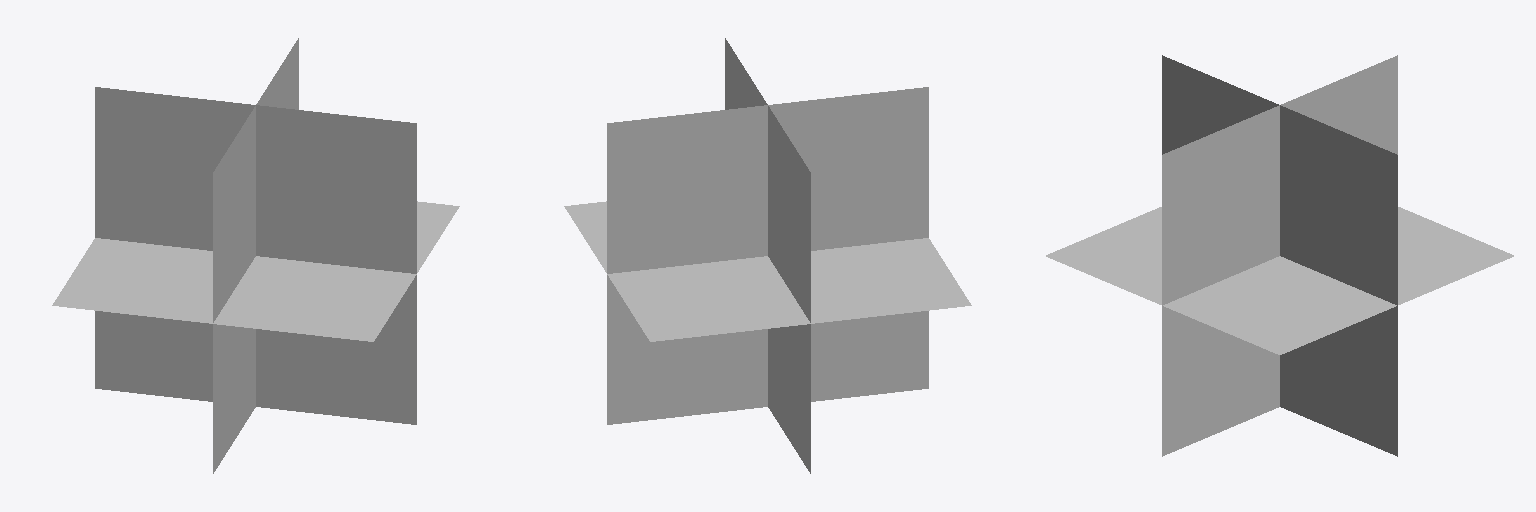
Rendered from myth_oak_leaves.obj.
3 views of the same model, side by side, from view 1: azimuth 30°, elevation 25°; view 2: azimuth 150°, elevation 25°; view 3: azimuth 270°, elevation 25° (orthographic).
Visible parts, largest first — view 1: cube; view 2: cube; view 3: cube.
Part boxes in pixels (left/top/right/bottom): cube: left=52, top=38, right=459, bottom=473; cube: left=564, top=38, right=971, bottom=473; cube: left=1046, top=55, right=1513, bottom=456.
Bounding box in the file's own units: 2.12 × 1.5 × 2.12.